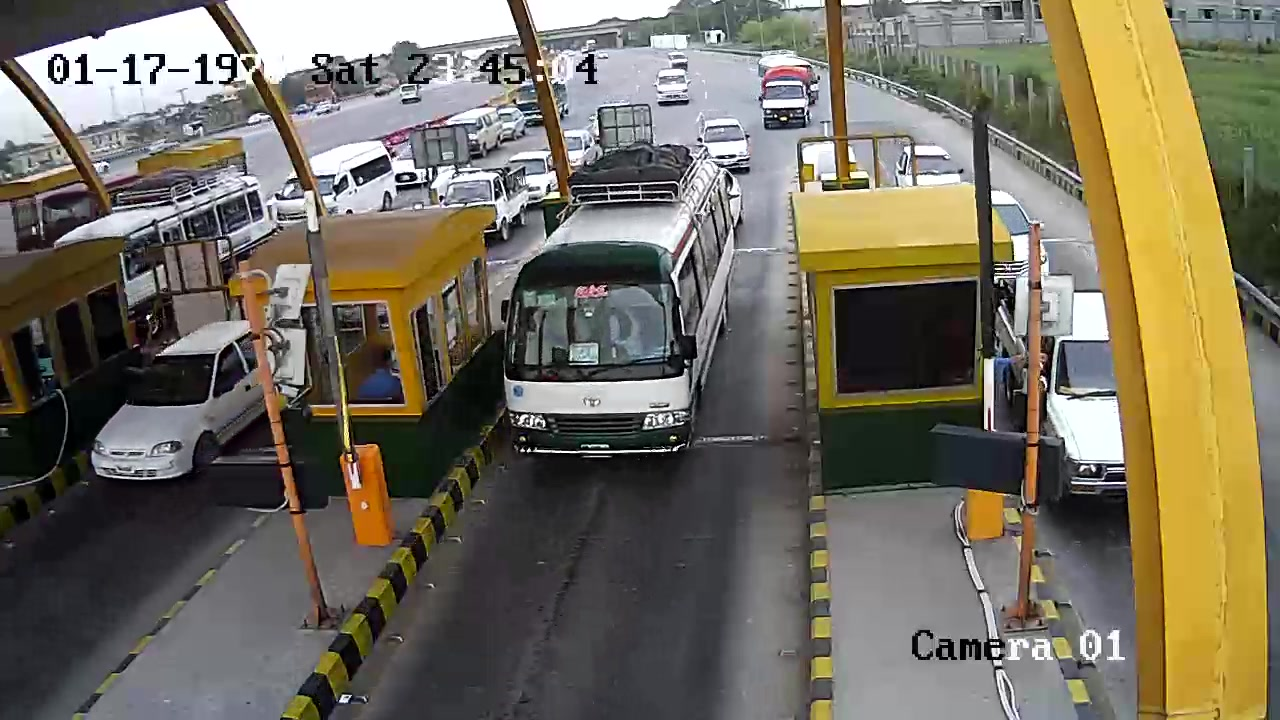F3: (505, 135, 748, 468)
